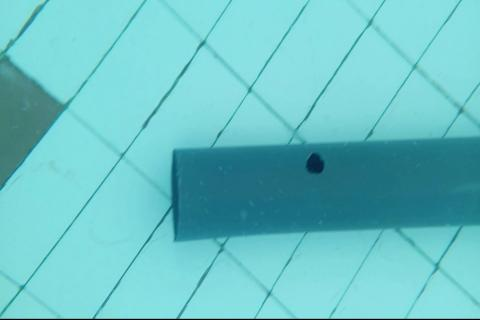kebocoran: (305, 152, 325, 174)
